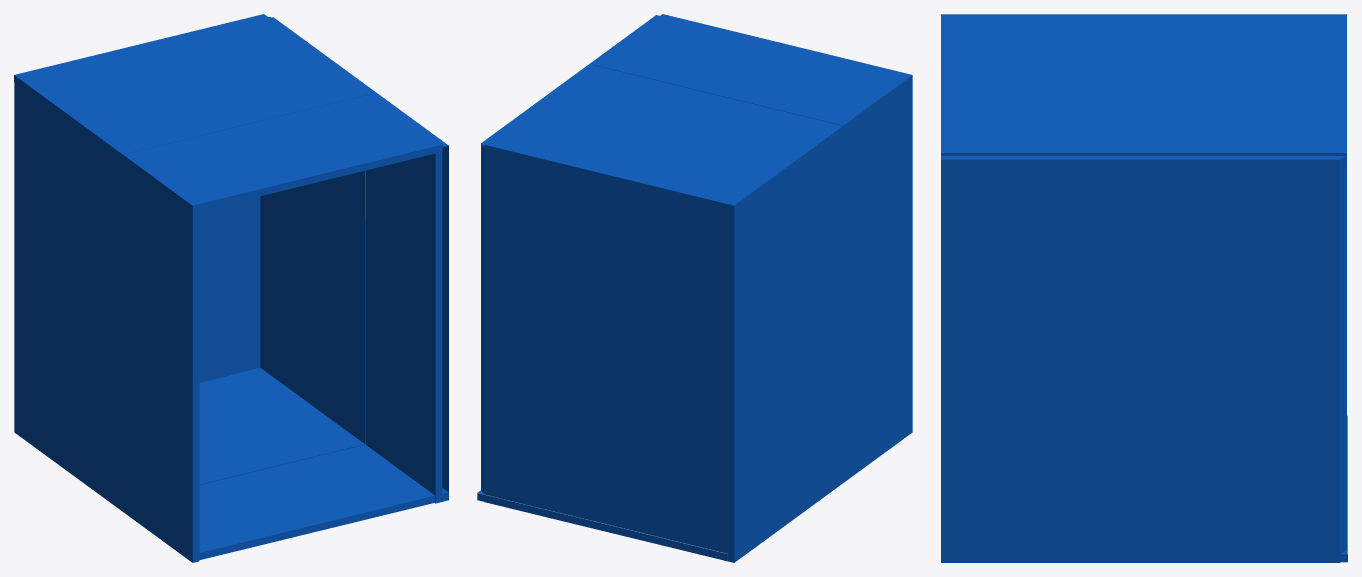
Rendered from puertaAguaAtras.fbx.
3 views of the same model, side by side, from view 1: azimuth 30°, elevation 25°; view 2: azimuth 150°, elevation 25°; view 3: azimuth 270°, elevation 25° (orthographic). The views are drawn at different scales.
Visible parts, largest first — view 1: PuertaFuego.007; view 2: PuertaFuego.007; view 3: PuertaFuego.007.
Part boxes in pixels (box(x1,y1,x2,y2)): PuertaFuego.007: box(14, 14, 448, 562); PuertaFuego.007: box(477, 14, 912, 562); PuertaFuego.007: box(941, 14, 1347, 562).
Size of the model in its own units: 75.1 by 100 by 90.52.
1 material, 1 textured.
